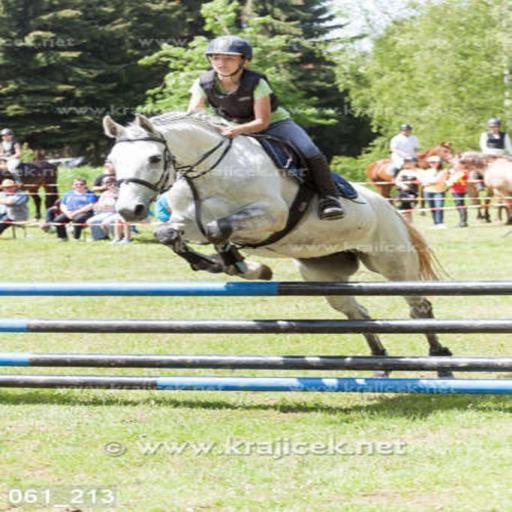Horse: (102, 108, 455, 379), (360, 136, 461, 215), (450, 148, 510, 222), (0, 158, 62, 220)
